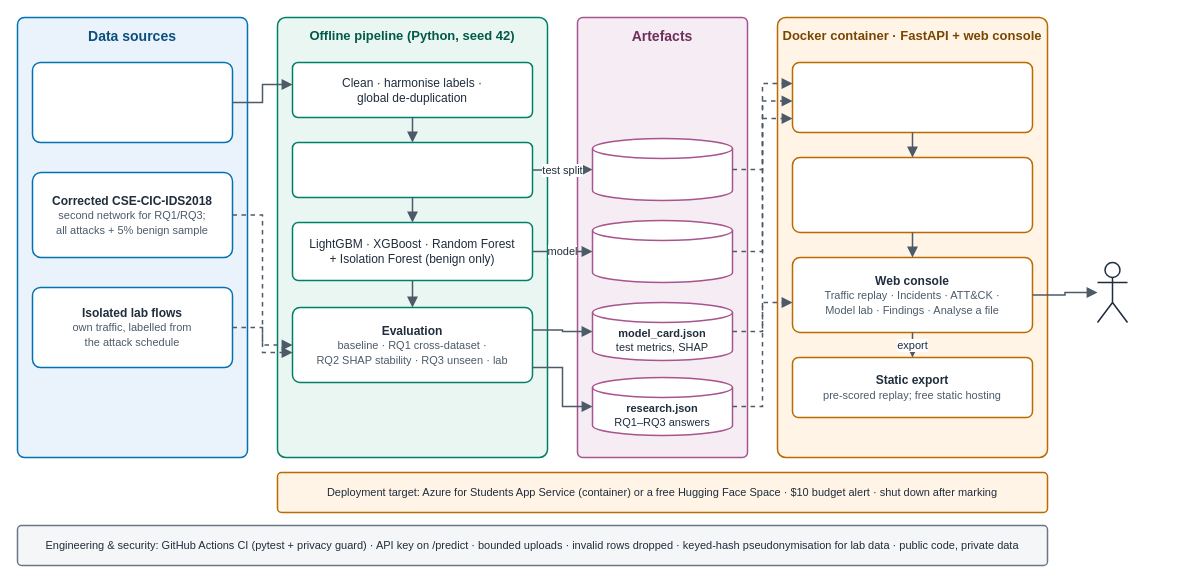
This 1179x584 diagram has some shape labels left out. The shapes that lost their labels are listed below. From the top down, each one's centre as x and y in pixels, then its label:
At point (132, 102): "Corrected CIC-IDS2017 trains the deployed model; RQ1–RQ3 experiments".
At point (912, 97): "FastAPI /replay · /score-csv · /predict · /model · /health".
At point (412, 169): "Chronological split per class 70 / 10 / 20 · cap 60k per class".
At point (662, 169): "replay.parquet held-out test flows".
At point (912, 194): "Scoring classifier + anomaly → SHAP top-5 → candidate ATT&CK, severity, response".
At point (662, 251): "detector.joblib model + thresholds".
At point (1112, 292): "SMB IT manager / analyst".
